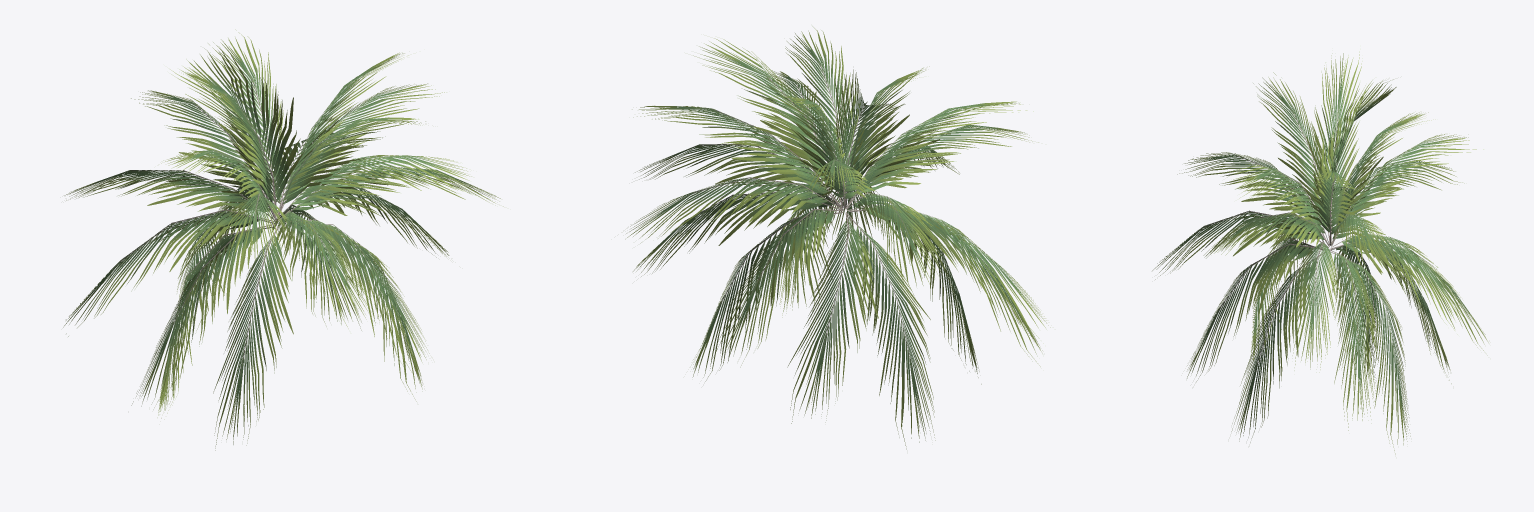
The model's file is m_palm_p2_15_leaf_0.glb.
3 renders of one model, left to right at view 1: azimuth 30°, elevation 25°; view 2: azimuth 150°, elevation 25°; view 3: azimuth 270°, elevation 25°, orthographic. The views are drawn at different scales.
Visible parts, largest first — view 1: M_Palm_P2_15_Leaf_0; view 2: M_Palm_P2_15_Leaf_0; view 3: M_Palm_P2_15_Leaf_0.
Part boxes in pixels (box(x1,y1,x2,y2)): M_Palm_P2_15_Leaf_0: box(63, 29, 503, 450); M_Palm_P2_15_Leaf_0: box(625, 26, 1050, 449); M_Palm_P2_15_Leaf_0: box(1152, 51, 1488, 454).
Size of the model in its own units: 4.18 by 3.33 by 3.1.
Materials: 1 (1 with a texture image).
